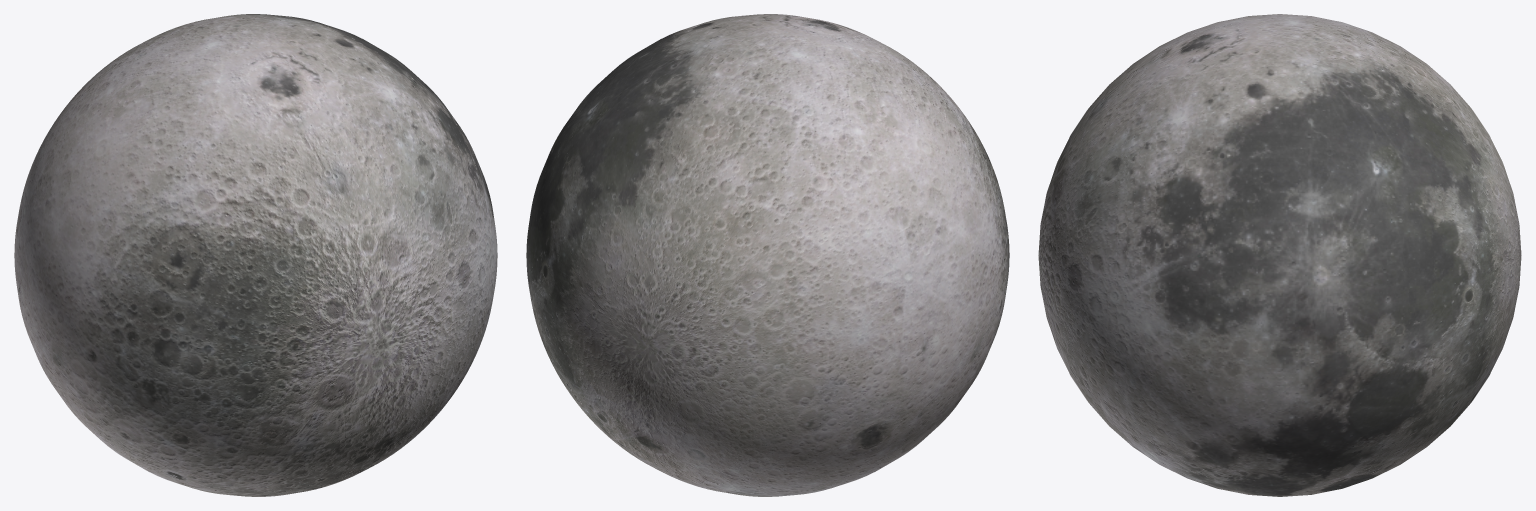
File: moon.gltf
3 renders of one model, left to right at view 1: azimuth 30°, elevation 25°; view 2: azimuth 150°, elevation 25°; view 3: azimuth 270°, elevation 25°, orthographic.
Visible parts, largest first — view 1: Sphere; view 2: Sphere; view 3: Sphere.
Part boxes in pixels (x1,y1,x2,y2): Sphere: (14, 14, 497, 496); Sphere: (526, 14, 1009, 496); Sphere: (1038, 14, 1521, 496).
Size of the model in its own units: 1 by 1 by 1.
Materials: 1 (1 with a texture image).
